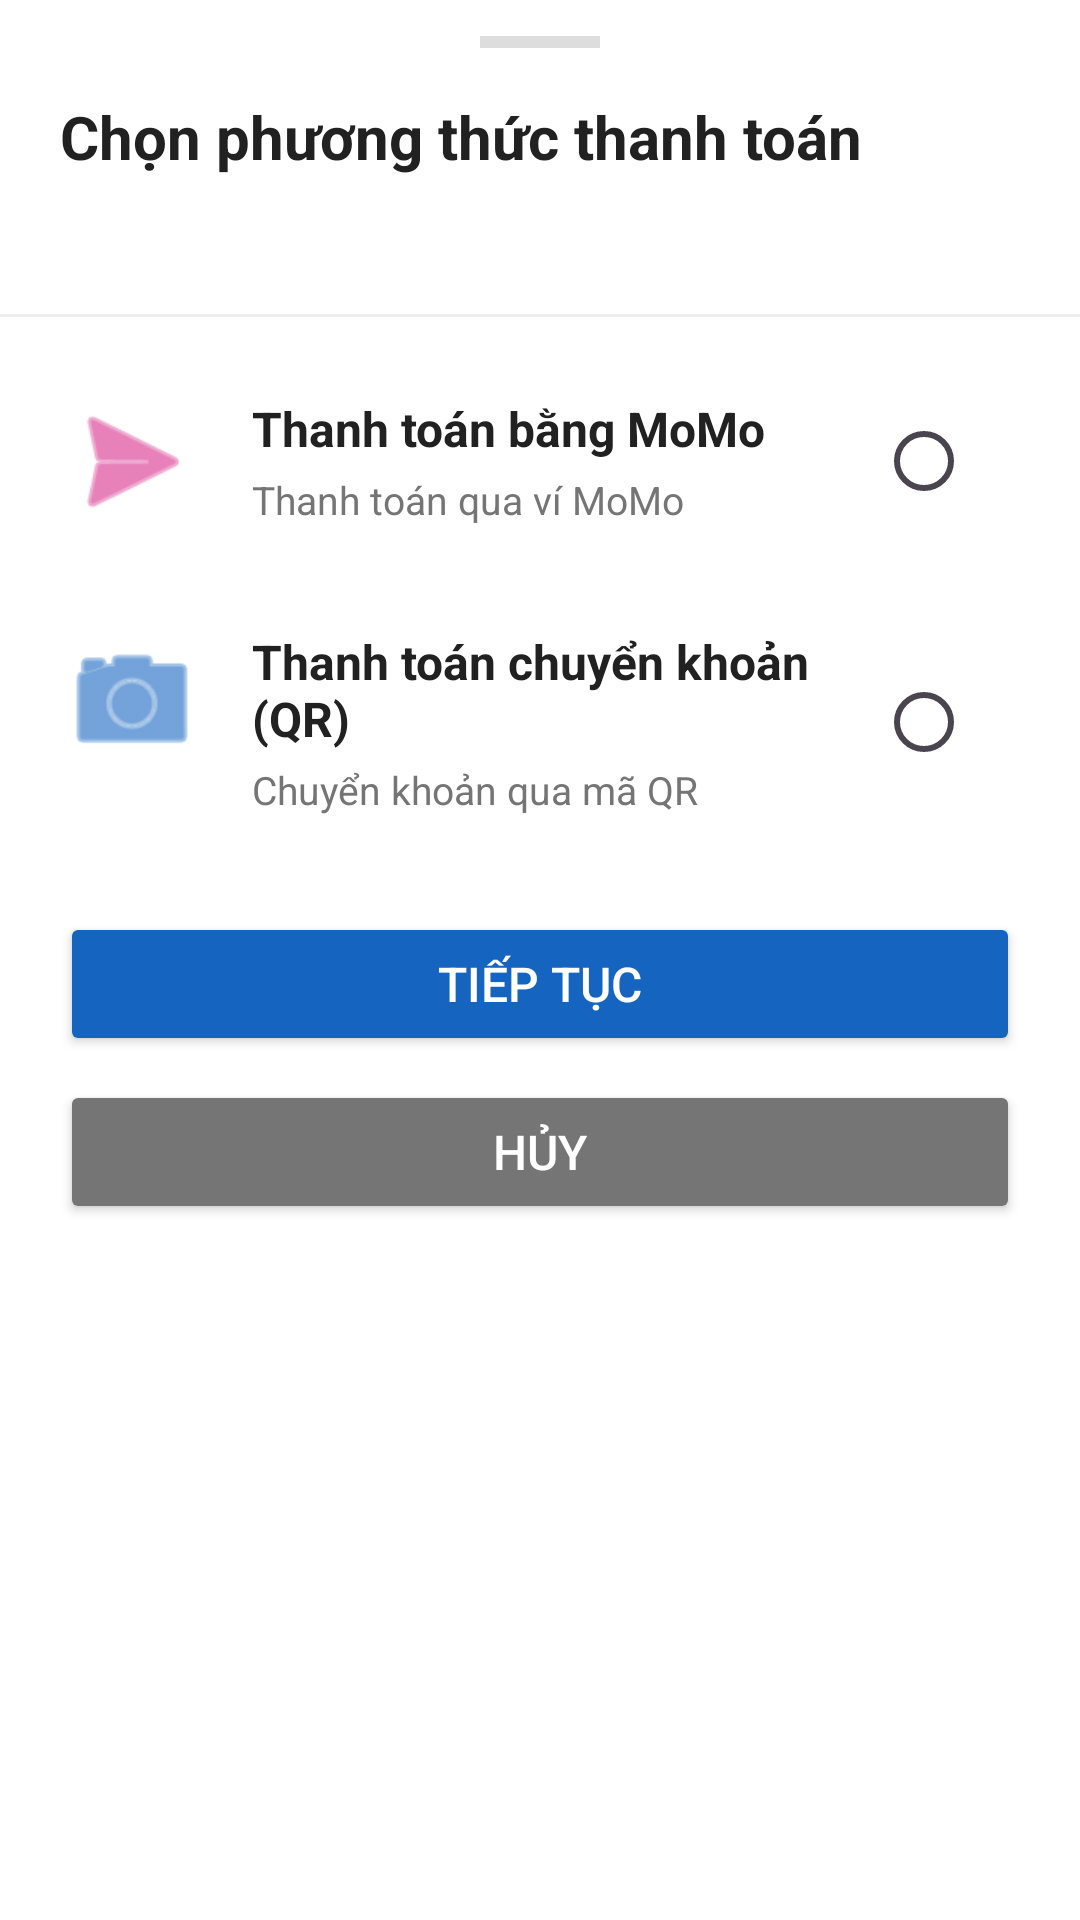

Icons on this 1080px×1920px Android screen, each with its box as (x1,y1,x2,y2):
camera: (76,654,188,743)
send: (87,416,179,507)
